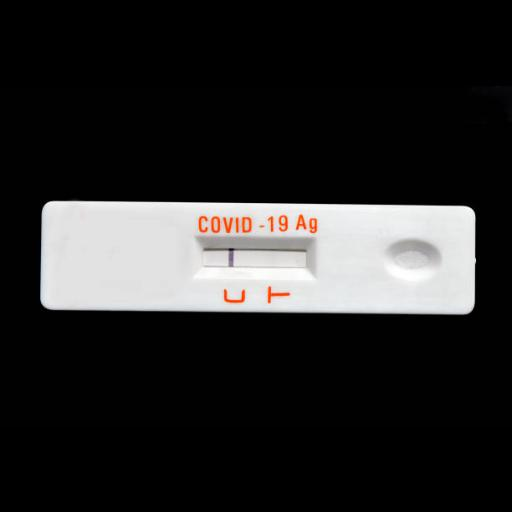Neg: (42, 201, 476, 315)
